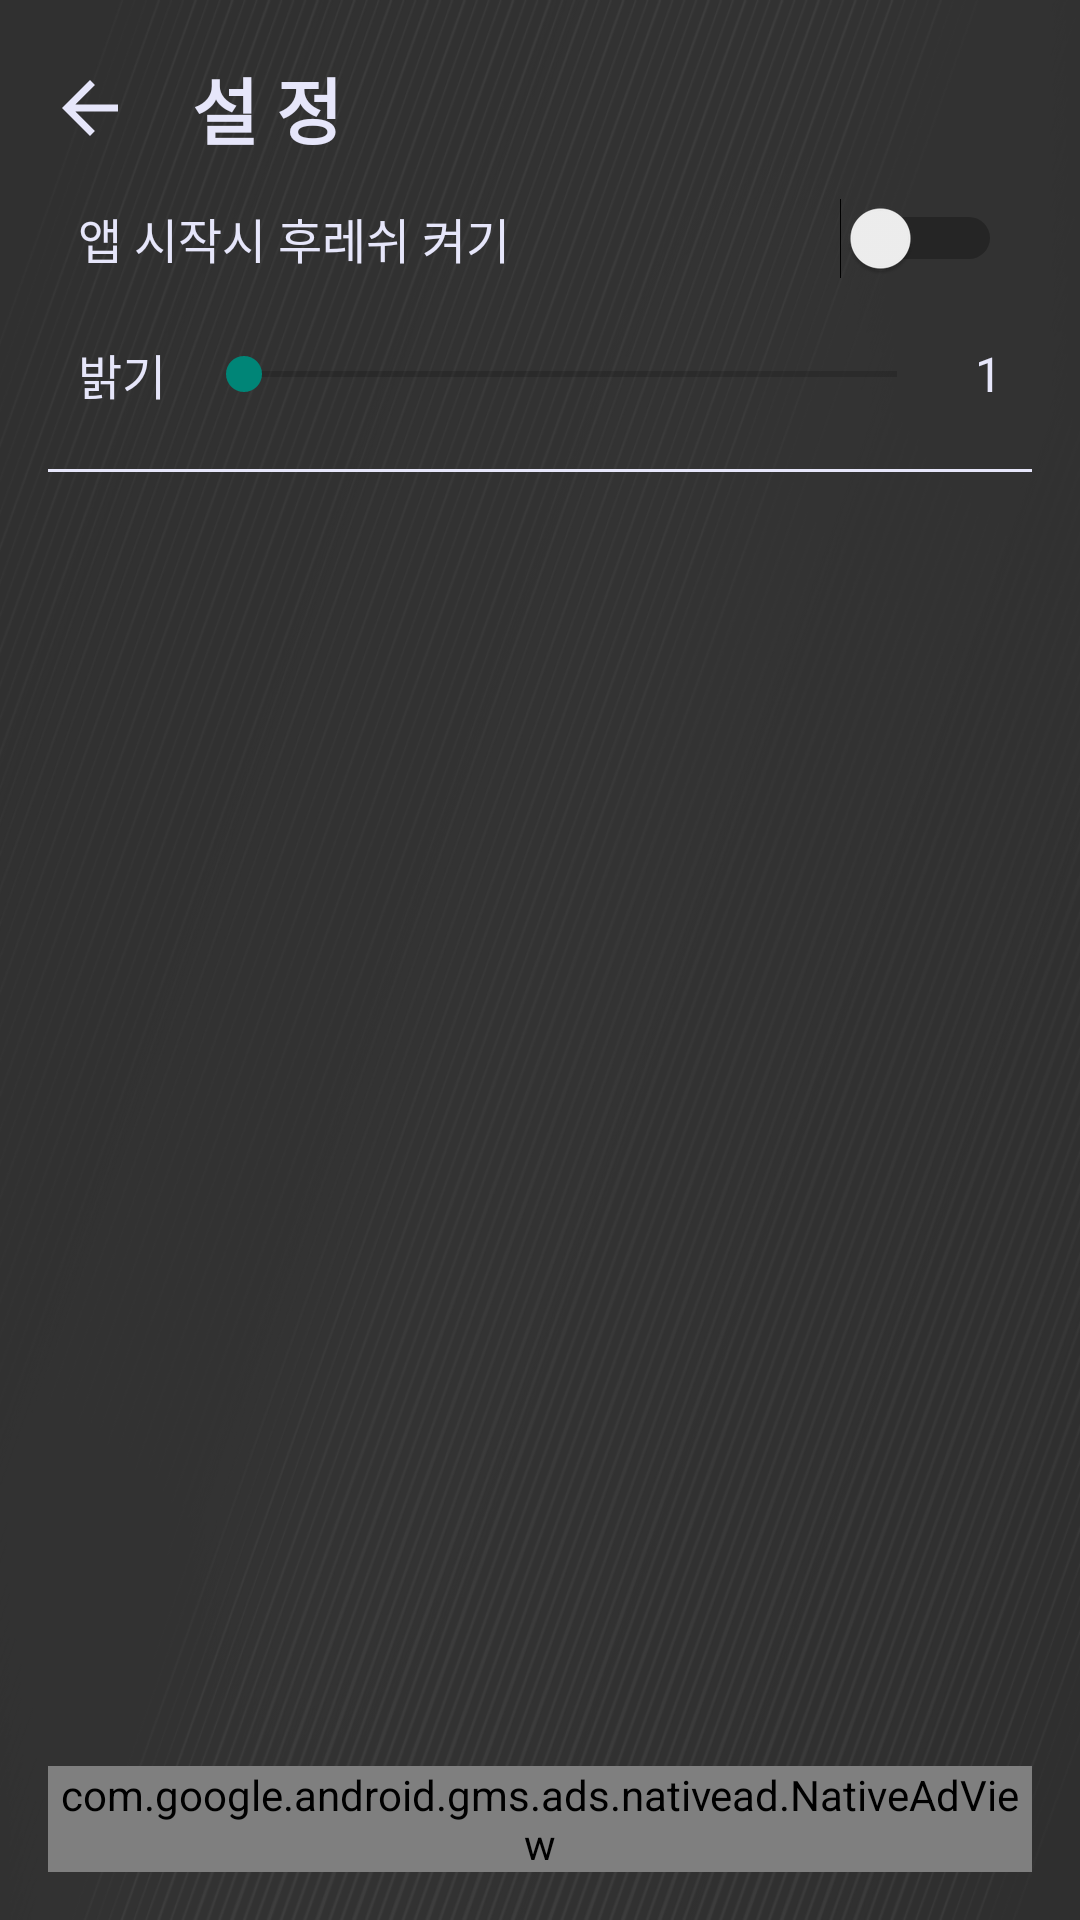

Icons on this 1080px x 1920px Android screen, each with its box as (left=x1, top=y1, right=x2, bottom=y2):
left arrow ver: (left=62, top=80, right=118, bottom=136)
